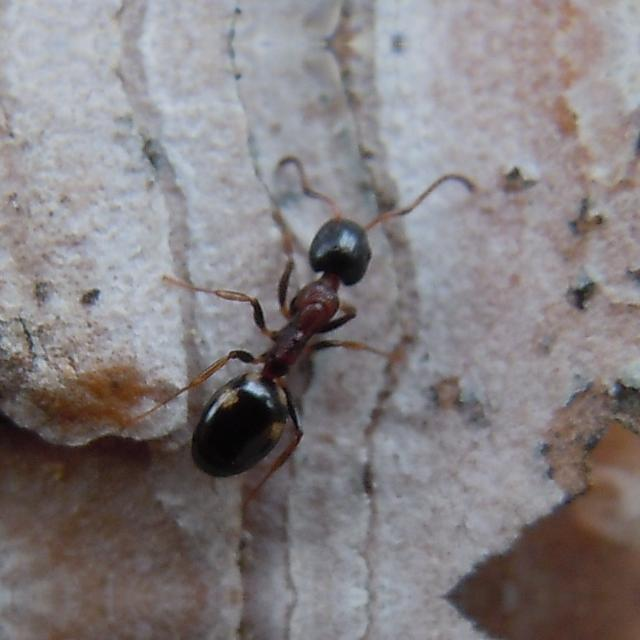Dolichoderus: (138, 152, 444, 504)
